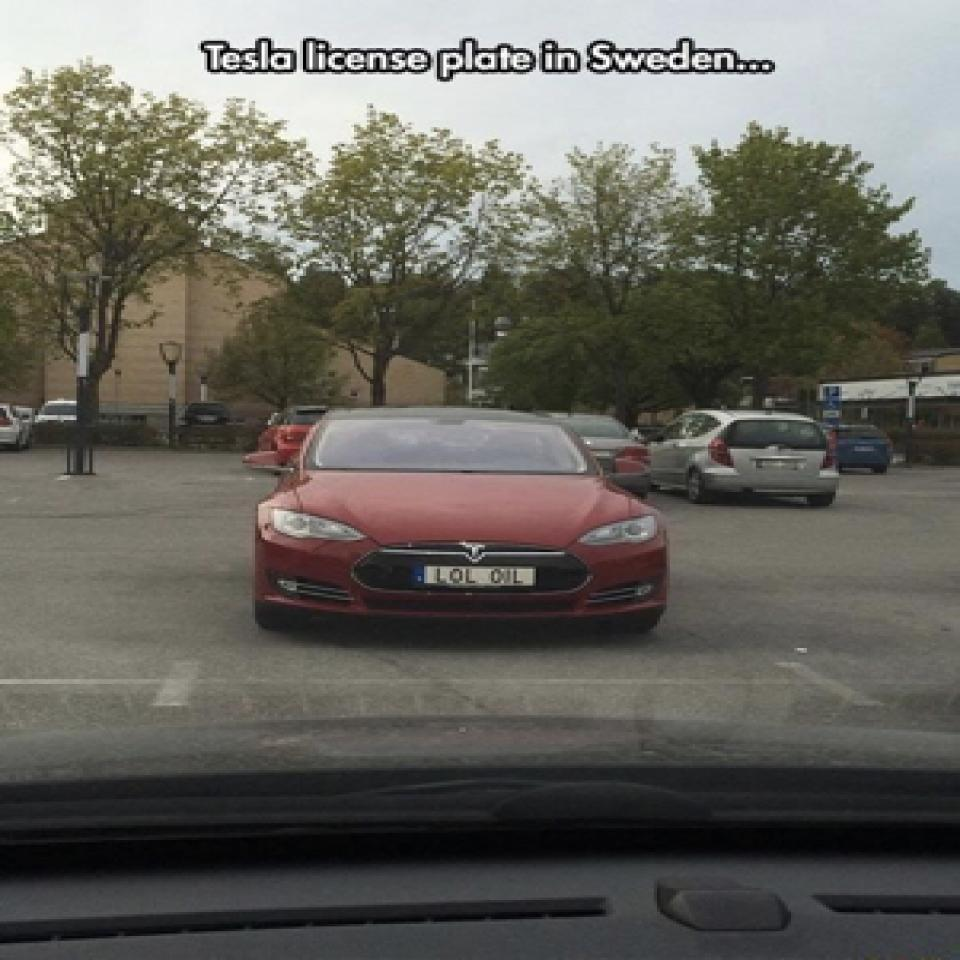licence: (424, 562, 536, 588)
